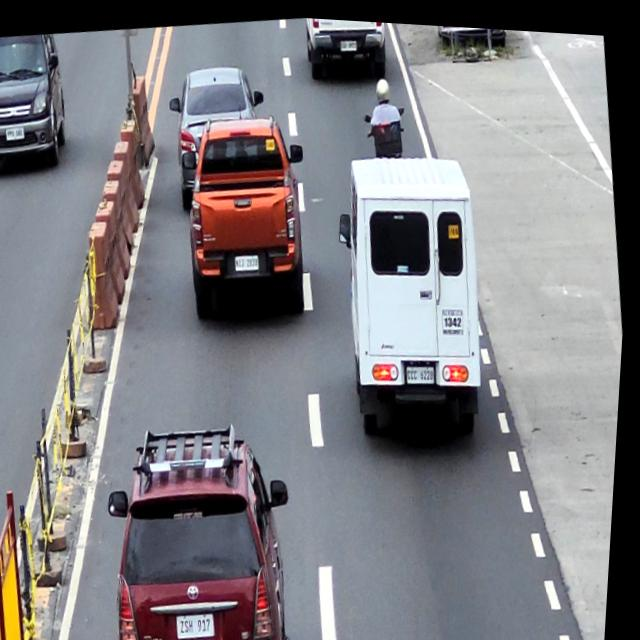Car: (323, 140, 505, 447), (99, 410, 318, 640), (173, 104, 326, 324), (162, 56, 279, 213), (0, 29, 77, 180), (302, 14, 390, 83)
License-Plate: (183, 609, 223, 637), (409, 358, 440, 382), (236, 250, 263, 268), (6, 126, 26, 141), (339, 34, 358, 48)
